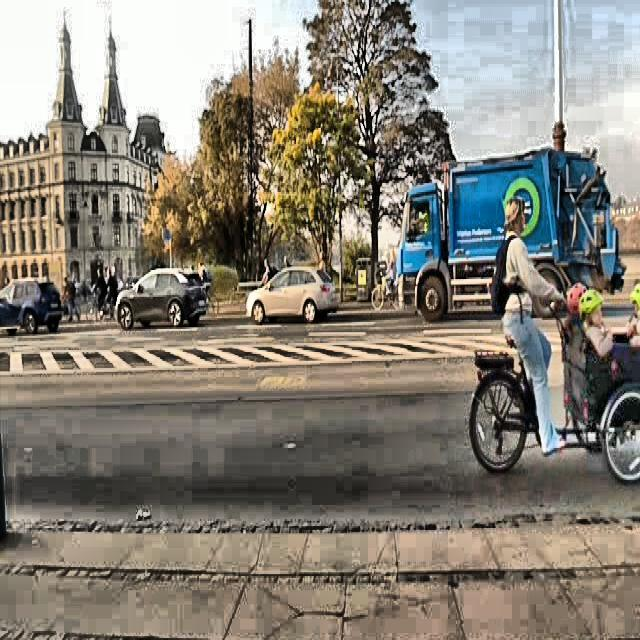ladcykel: (468, 302, 640, 486)
